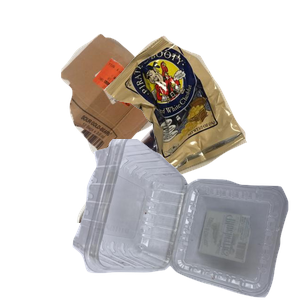cardboard: (58, 31, 222, 188)
glass: (74, 120, 244, 300)
plastic: (70, 139, 300, 300)
trash: (101, 33, 300, 206)
